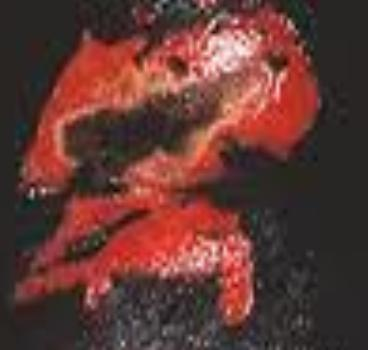Stage2: (0, 5, 353, 343)
